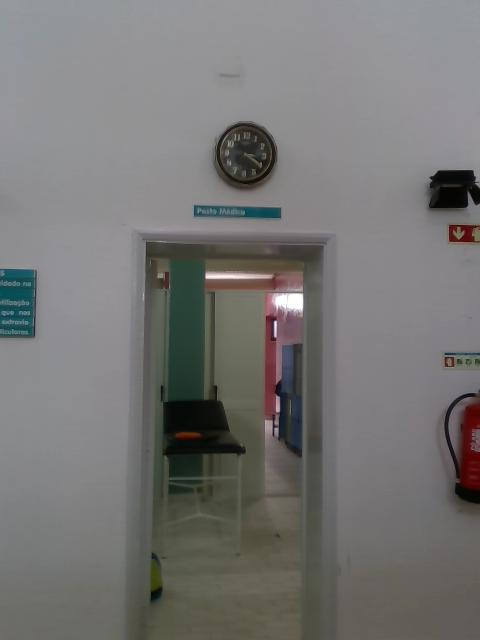open_door: (131, 224, 337, 638)
